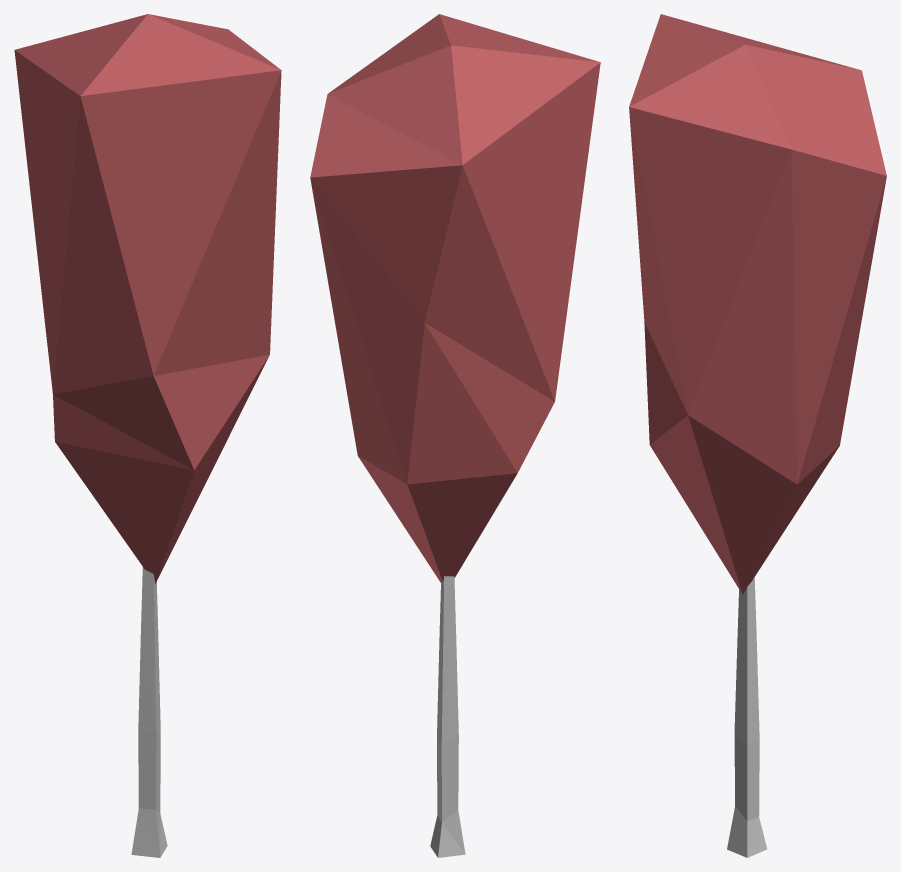
File: world_2_tree_1.dae
3 views of the same model, side by side, from view 1: azimuth 30°, elevation 25°; view 2: azimuth 150°, elevation 25°; view 3: azimuth 270°, elevation 25° (orthographic). The views are drawn at different scales.
Parts seen in each view (by area): view 1: world_2_tree_1_leaves, world_2_tree_1_base; view 2: world_2_tree_1_leaves, world_2_tree_1_base; view 3: world_2_tree_1_leaves, world_2_tree_1_base.
Part boxes in pixels (<box>): world_2_tree_1_leaves: <box>14,14,281,583</box>; world_2_tree_1_base: <box>131,567,167,857</box>; world_2_tree_1_leaves: <box>310,14,600,582</box>; world_2_tree_1_base: <box>430,576,465,857</box>; world_2_tree_1_leaves: <box>629,14,886,594</box>; world_2_tree_1_base: <box>727,577,766,857</box>.
Bounding box in the file's own units: 0.9196 × 0.9907 × 3.41.
